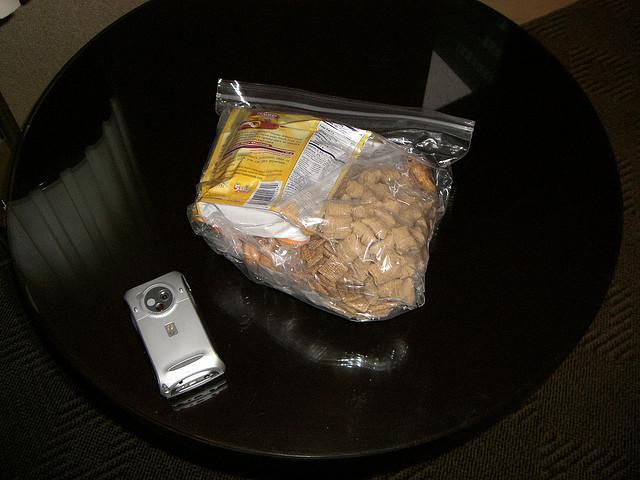phone: (113, 259, 244, 404)
